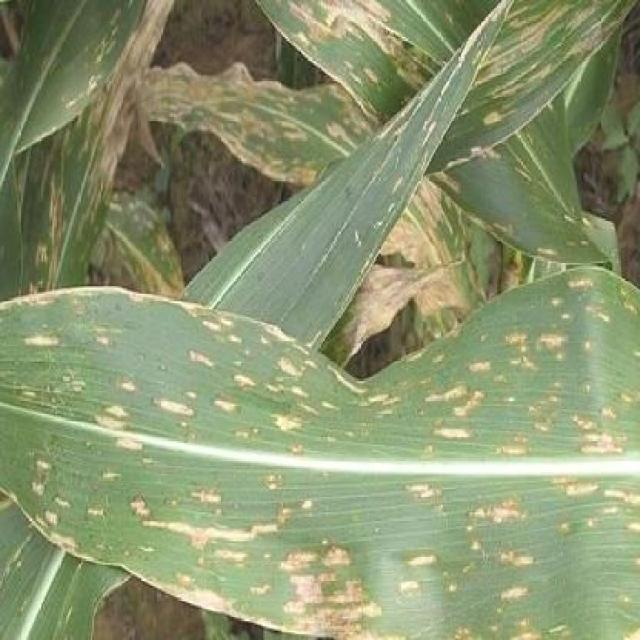Corn_Grey_Leaf_Spot: (15, 255, 640, 640)
